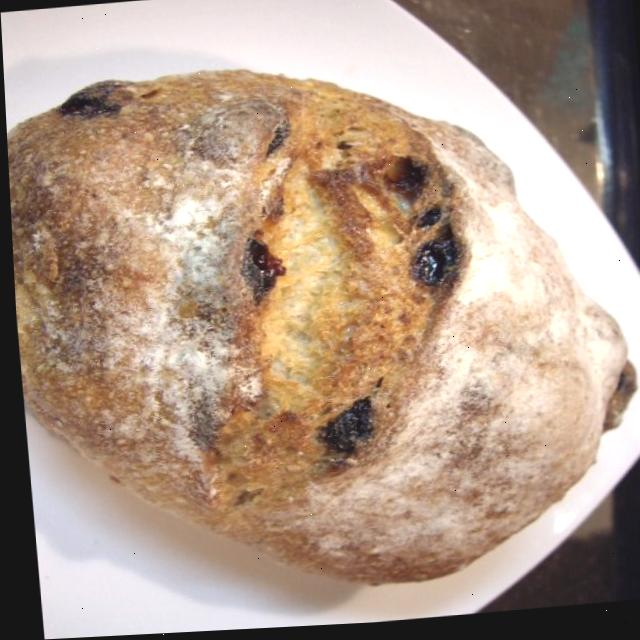面包点心: (2, 26, 636, 631)
